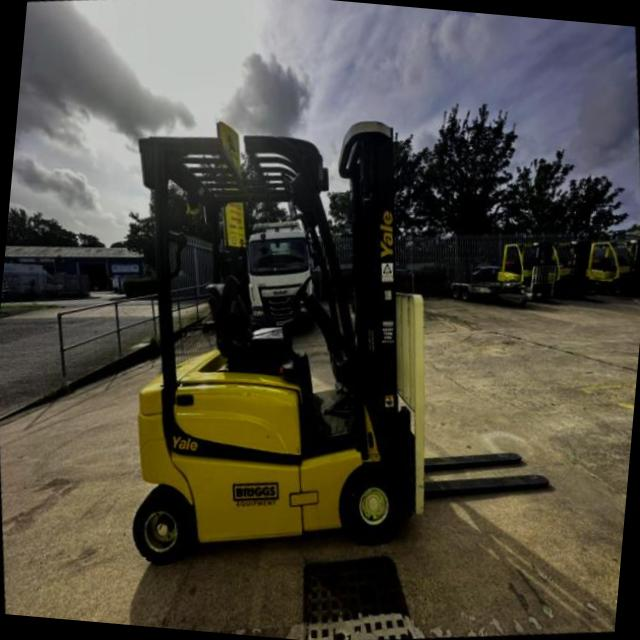forklift: (59, 87, 482, 616)
